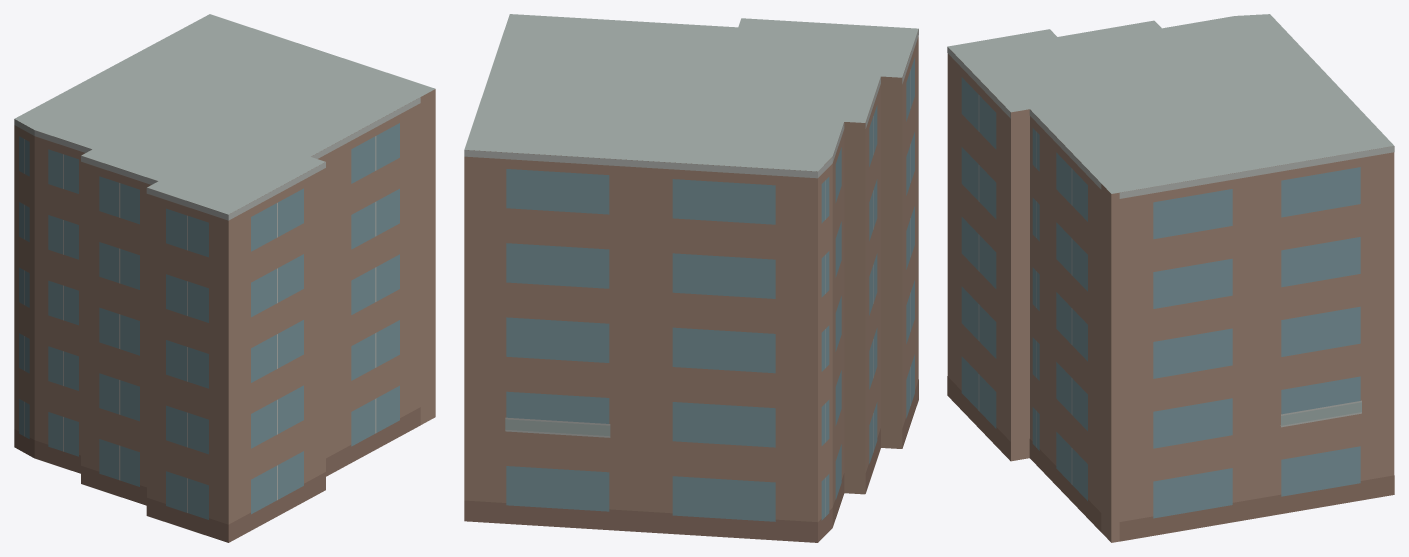
Rendered from survey-upis-32745855.glb.
3 renders of one model, left to right at view 1: azimuth 30°, elevation 25°; view 2: azimuth 150°, elevation 25°; view 3: azimuth 270°, elevation 25°, orthographic. The views are drawn at different scales.
Parts seen in each view (by area): view 1: survey-upis-32745855.tmp; view 2: survey-upis-32745855.tmp; view 3: survey-upis-32745855.tmp.
Boxes of the visible parts, x1=… form: survey-upis-32745855.tmp: x1=14, y1=14, x2=435, y2=542; survey-upis-32745855.tmp: x1=464, y1=14, x2=918, y2=542; survey-upis-32745855.tmp: x1=947, y1=14, x2=1394, y2=542.
Size of the model in its own units: 14.71 by 13.3 by 15.45.
